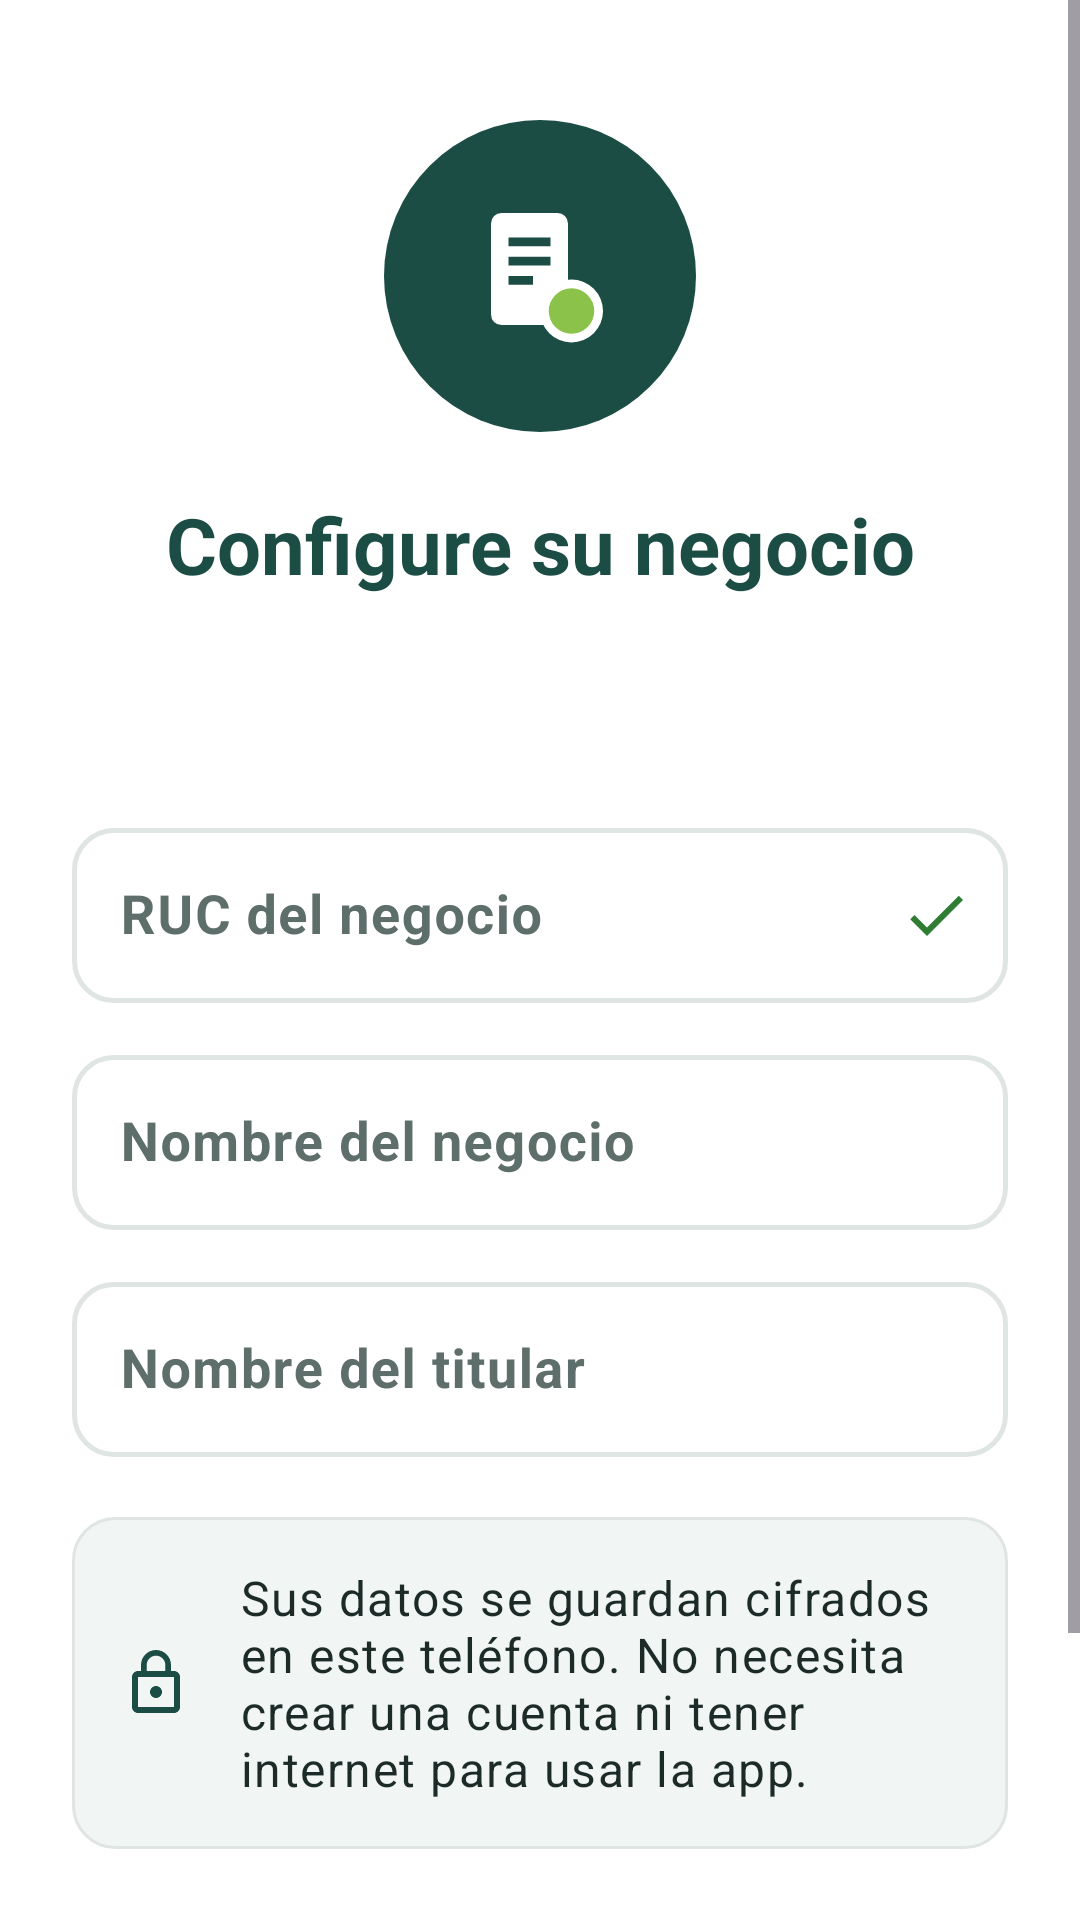

Where to tap for icons on this 1080 × 1920 app screen, as (x=x, y=y):
candado: (x=156, y=1681)
